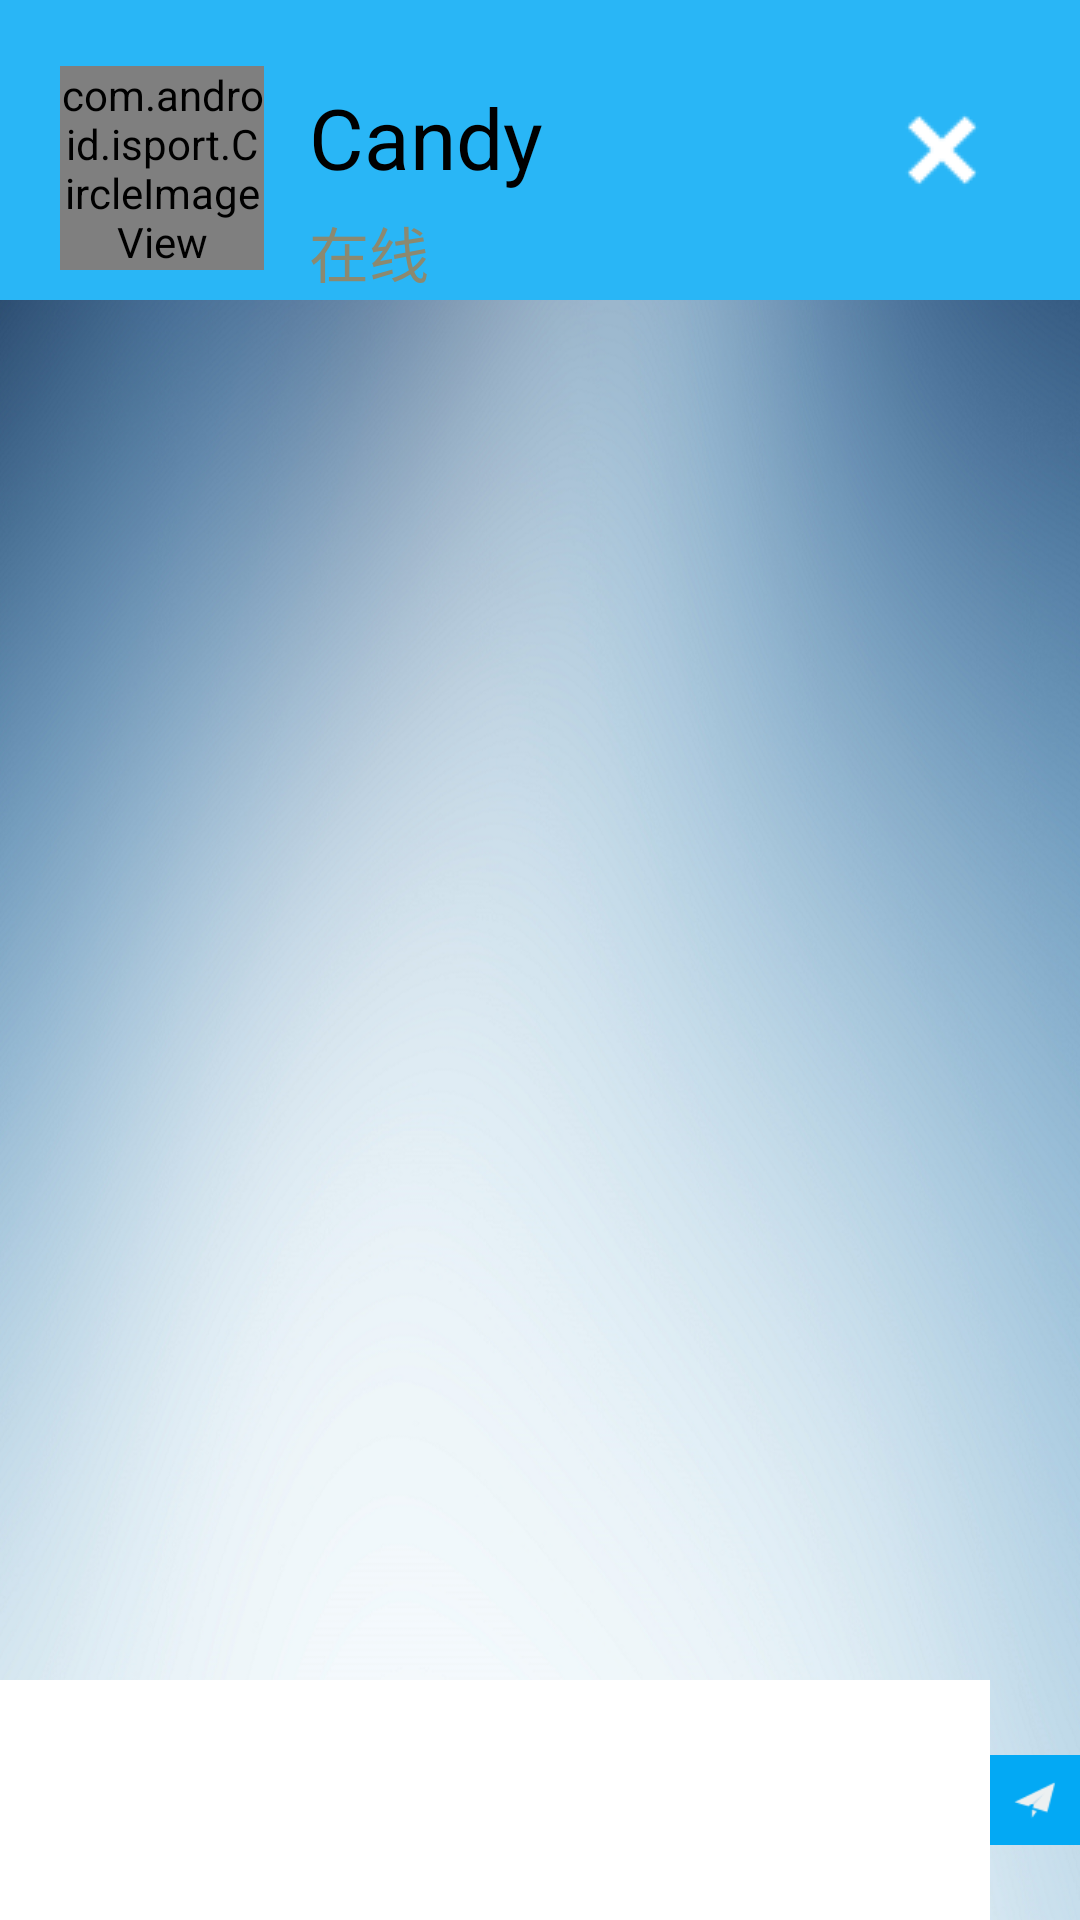

Icons on this 1080 × 1920 Android screen, each with its box as (x1, y1, x2, y2):
exit: (908, 116, 976, 184)
